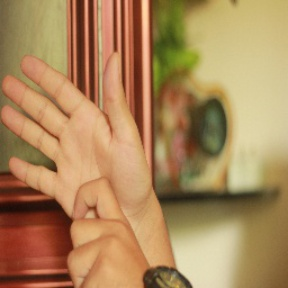R: (1, 52, 149, 287)
